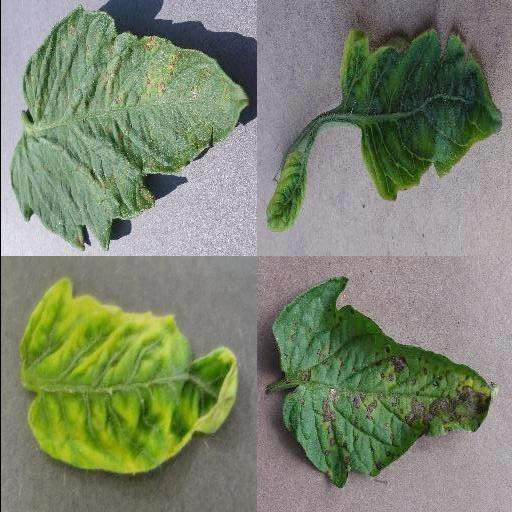Early Blight: (271, 280, 497, 488)
Septoria: (10, 8, 248, 250)
Yellow Leaf Curl Virus: (16, 278, 238, 475), (338, 22, 502, 200), (264, 142, 310, 232)
